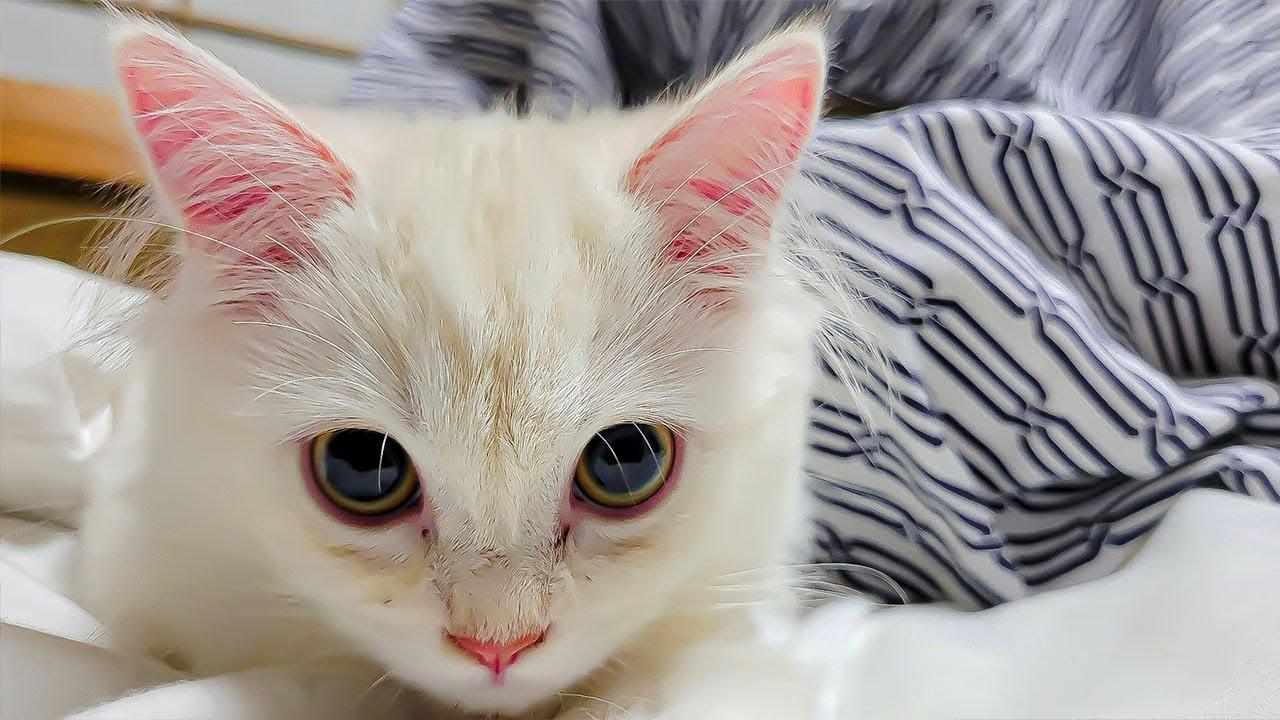Cat: (122, 5, 842, 704)
